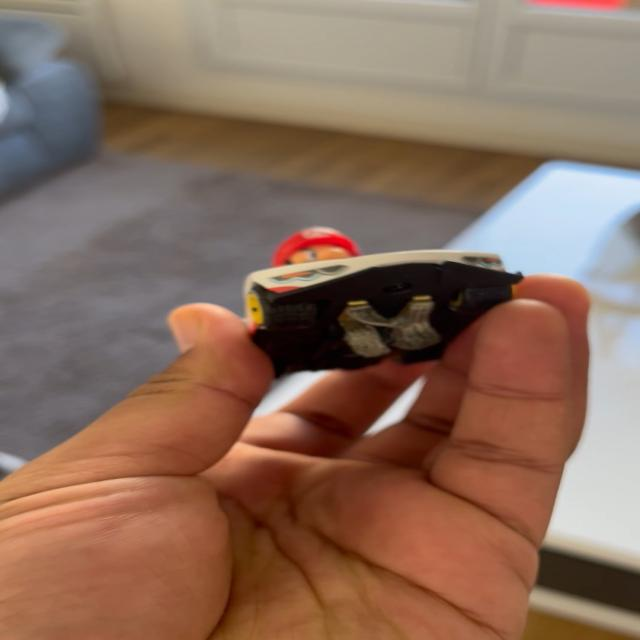mario: (222, 218, 544, 400)
